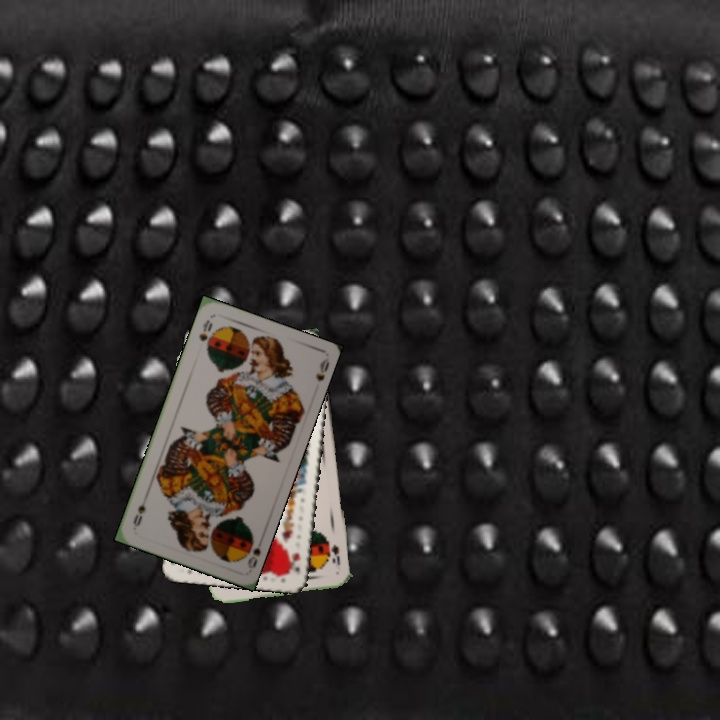HK: (286, 548, 303, 577)
SO: (239, 530, 263, 571), (195, 316, 215, 349), (327, 540, 343, 568)
